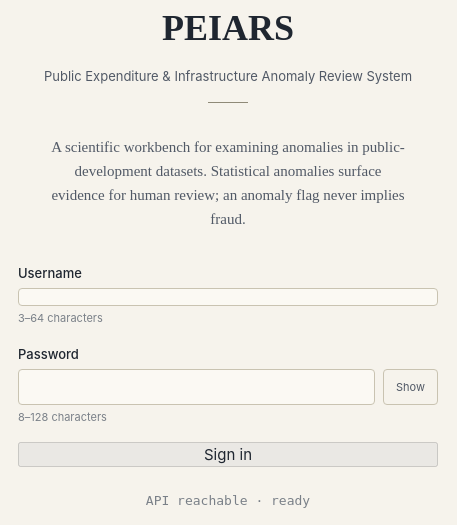
Test: LoginPage form › enables submit once username >= 3 and password >= 8
Step 1. Type "alice" into the field labelled "Username" → (228, 297), box x1=18 y1=288 x2=438 y2=306
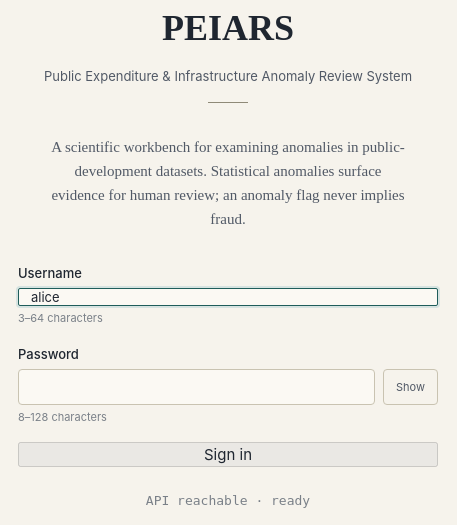
Step 2. Type "supersecret" into the password field labelled "Password" → (196, 387), box x1=18 y1=369 x2=375 y2=405
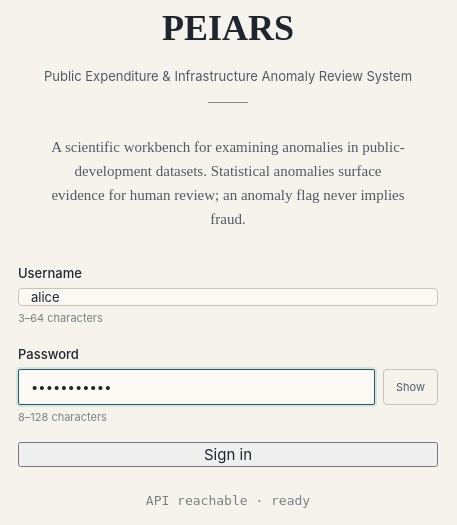
Check: the button "Sign in" is enabled, box x1=18 y1=442 x2=438 y2=467
